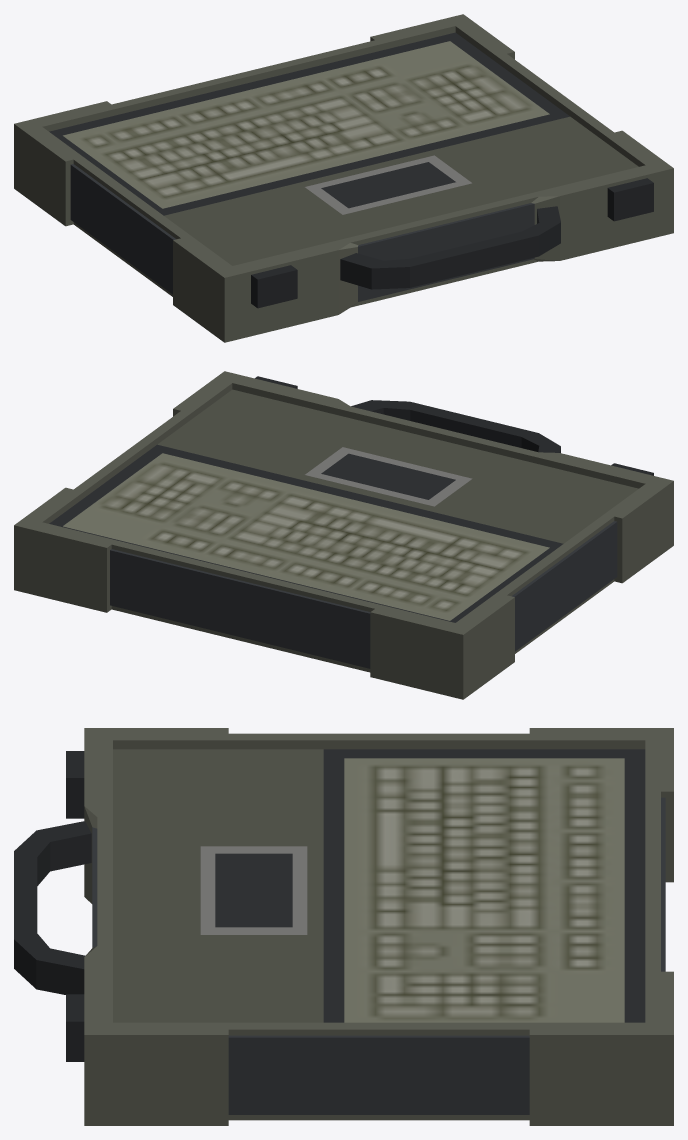
File: SM_Item_Laptop_01.fbx
3 views of the same model, one above another, from view 1: azimuth 30°, elevation 25°; view 2: azimuth 150°, elevation 25°; view 3: azimuth 270°, elevation 25° (orthographic). The views are drawn at different scales.
Visible parts, largest first — view 1: SM_Item_Laptop_01; view 2: SM_Item_Laptop_01; view 3: SM_Item_Laptop_01.
Boxes of the visible parts, x1,y1,x2,y2 form: SM_Item_Laptop_01: (14,14,673,342); SM_Item_Laptop_01: (14,371,673,699); SM_Item_Laptop_01: (14,728,673,1125).
Size of the model in its own units: 51.4 by 7.09 by 46.69.
